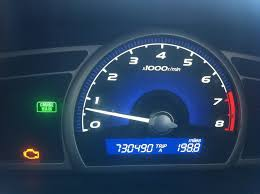Digital_Meter: (103, 136, 212, 156)
